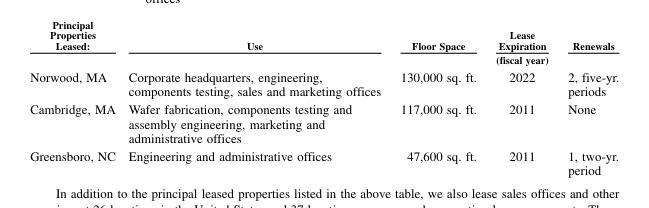table: (29, 28, 618, 176)
table column: (121, 28, 389, 176), (389, 28, 485, 176), (29, 28, 121, 176), (485, 28, 557, 176), (557, 28, 618, 176)
table column header: (29, 28, 618, 67)
table row: (29, 99, 618, 146), (29, 28, 618, 67), (29, 67, 618, 99), (29, 146, 618, 176)
